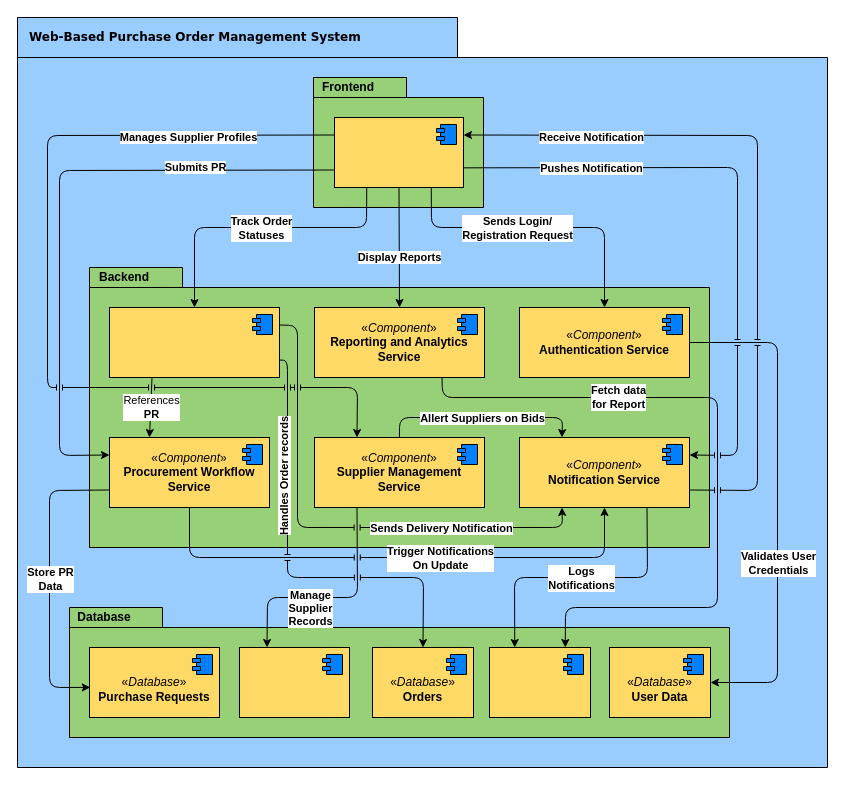
Image size: 845x785. Some labels were removed from this diagram. Each missing label, with the centre of its shape:
« Component » Order Fulfillment Service: the point at 194,342
« Component » User Interface: the point at 399,152
« Database » Audit Logs: the point at 539,682
« Database » Suppliers Data: the point at 294,682
